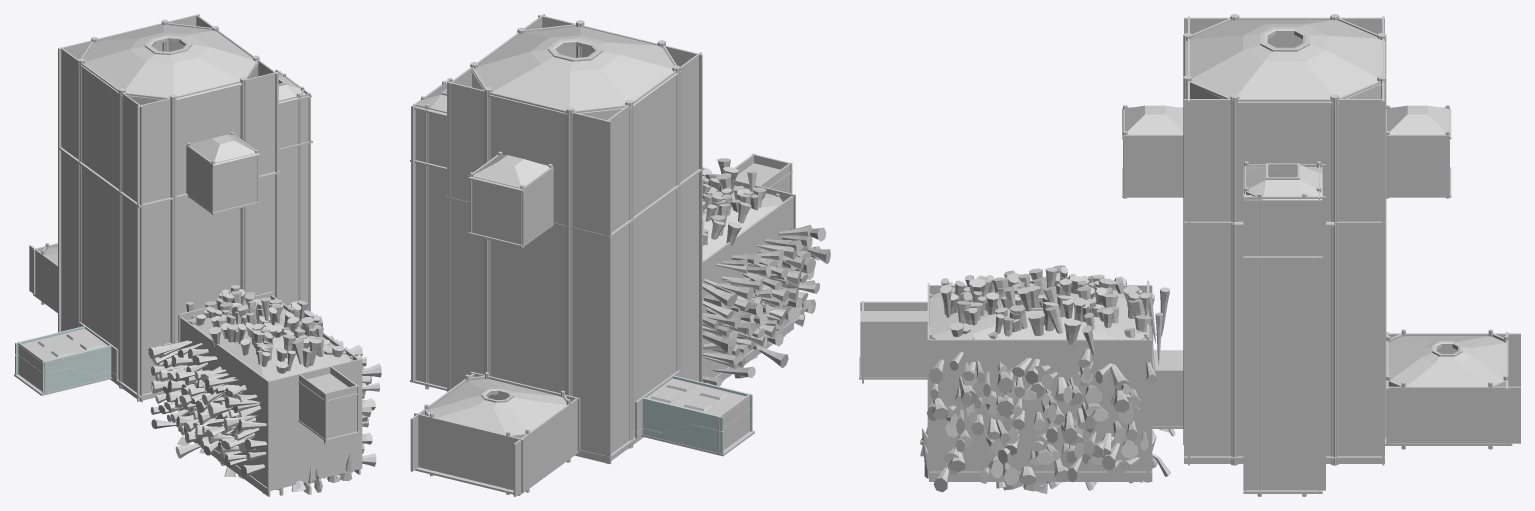
The model's file is New Level Mostly Done .fbx.
3 renders of one model, left to right at view 1: azimuth 30°, elevation 25°; view 2: azimuth 150°, elevation 25°; view 3: azimuth 270°, elevation 25°, orthographic. The views are drawn at different scales.
Parts seen in each view (by area): view 1: Wall (4), Wall (2), Roof.005, Wall (Back).003, Wall (side 2), Wall (Side 2), Roof.002, wall 1.001, Back Wall.001, Wall (3), Pillar.034, Roof (+17 smaller); view 2: Wall (3), Wall (2), Roof.005, Wall (side 1).001, Wall (Back), Roof.001, Wall (Side 2), Wall (Side1), wall 1.002, Back Wall, Wall (4), Roof (+20 smaller); view 3: Wall (1), Wall (Back).001, Wall (side 1), Roof.005, Wall (Side2), Roof.001, Side Wall 2, Side Wall 2.001, Wall (Mini/Mini).001, Roof.002, Pillar.032, Pillar.031 (+12 smaller).
Boxes of the visible parts, x1,y1,x2,y2 form: Wall (4): (137, 71, 278, 401); Wall (2): (60, 47, 142, 402); Roof.005: (78, 25, 258, 101); Wall (Back).003: (267, 358, 362, 491); Wall (side 2): (278, 93, 310, 310); Wall (Side 2): (178, 316, 270, 496); Roof.002: (192, 305, 351, 380); wall 1.001: (42, 345, 111, 393); Back Wall.001: (215, 153, 256, 211); Wall (3): (58, 14, 199, 332); Pillar.034: (169, 94, 176, 354); Roof: (18, 328, 111, 365); Wall (3): (447, 81, 611, 463); Wall (2): (605, 52, 701, 463); Roof.005: (471, 26, 680, 116); Wall (side 1).001: (413, 104, 446, 387); Wall (Back): (414, 413, 523, 492); Roof.001: (428, 379, 566, 435); Wall (Side 2): (702, 196, 793, 384); Wall (Side1): (513, 398, 577, 496); wall 1.002: (642, 397, 723, 453); Back Wall: (472, 176, 520, 244); Wall (4): (538, 14, 702, 382); Roof: (646, 378, 750, 418); Wall (1): (1184, 99, 1384, 463); Wall (Back).001: (1243, 196, 1325, 490); Wall (side 1): (929, 339, 1152, 481); Roof.005: (1185, 19, 1385, 104); Wall (Side2): (1388, 386, 1520, 443); Roof.001: (1388, 336, 1505, 386); Side Wall 2: (1386, 134, 1449, 196); Side Wall 2.001: (1123, 134, 1183, 196); Wall (Mini/Mini).001: (860, 320, 928, 377); Roof.002: (930, 290, 1146, 339); Pillar.032: (1230, 94, 1239, 465); Pillar.031: (1330, 94, 1339, 465).
Bounding box in the file's own units: 17129 × 21549 × 29648.
